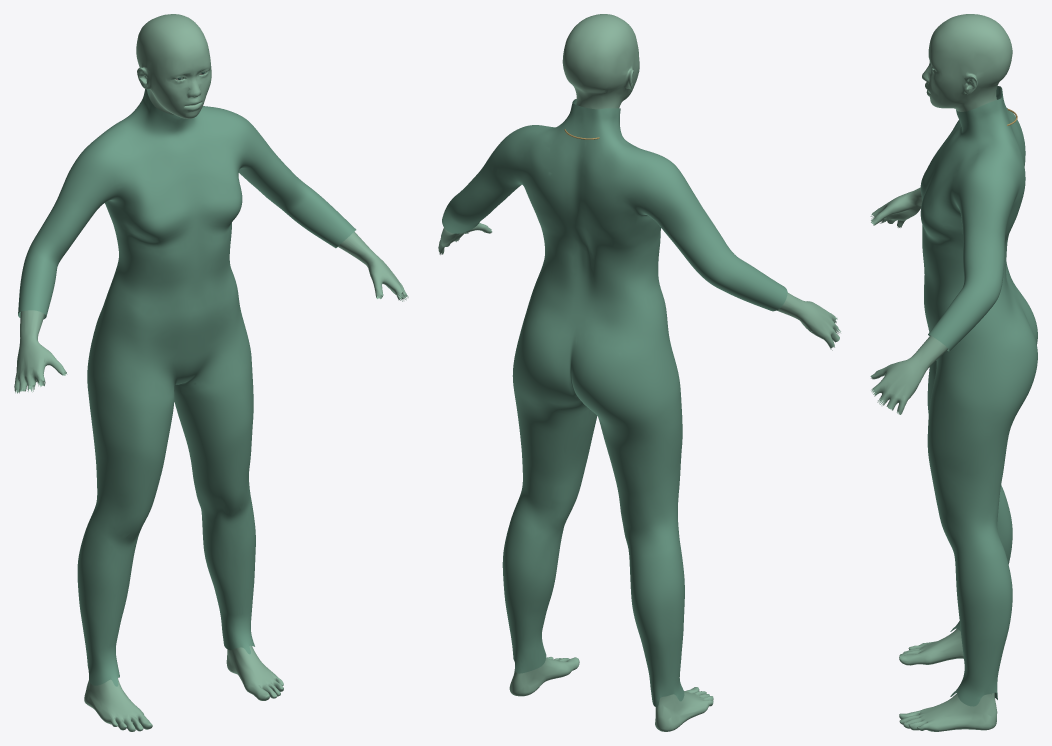
The model's file is adult-female-v1-C3zciiAw.glb.
3 views of the same model, side by side, from view 1: azimuth 30°, elevation 25°; view 2: azimuth 150°, elevation 25°; view 3: azimuth 270°, elevation 25° (orthographic). The views are drawn at different scales.
Parts seen in each view (by area): view 1: TeachingBody; view 2: TeachingBody; view 3: TeachingBody.
Part boxes in pixels (bbox=[...]): TeachingBody: bbox=[14, 14, 408, 731]; TeachingBody: bbox=[438, 14, 840, 731]; TeachingBody: bbox=[870, 14, 1037, 731].
Bounding box in the file's own units: 1.02 × 1.7 × 0.3822.
